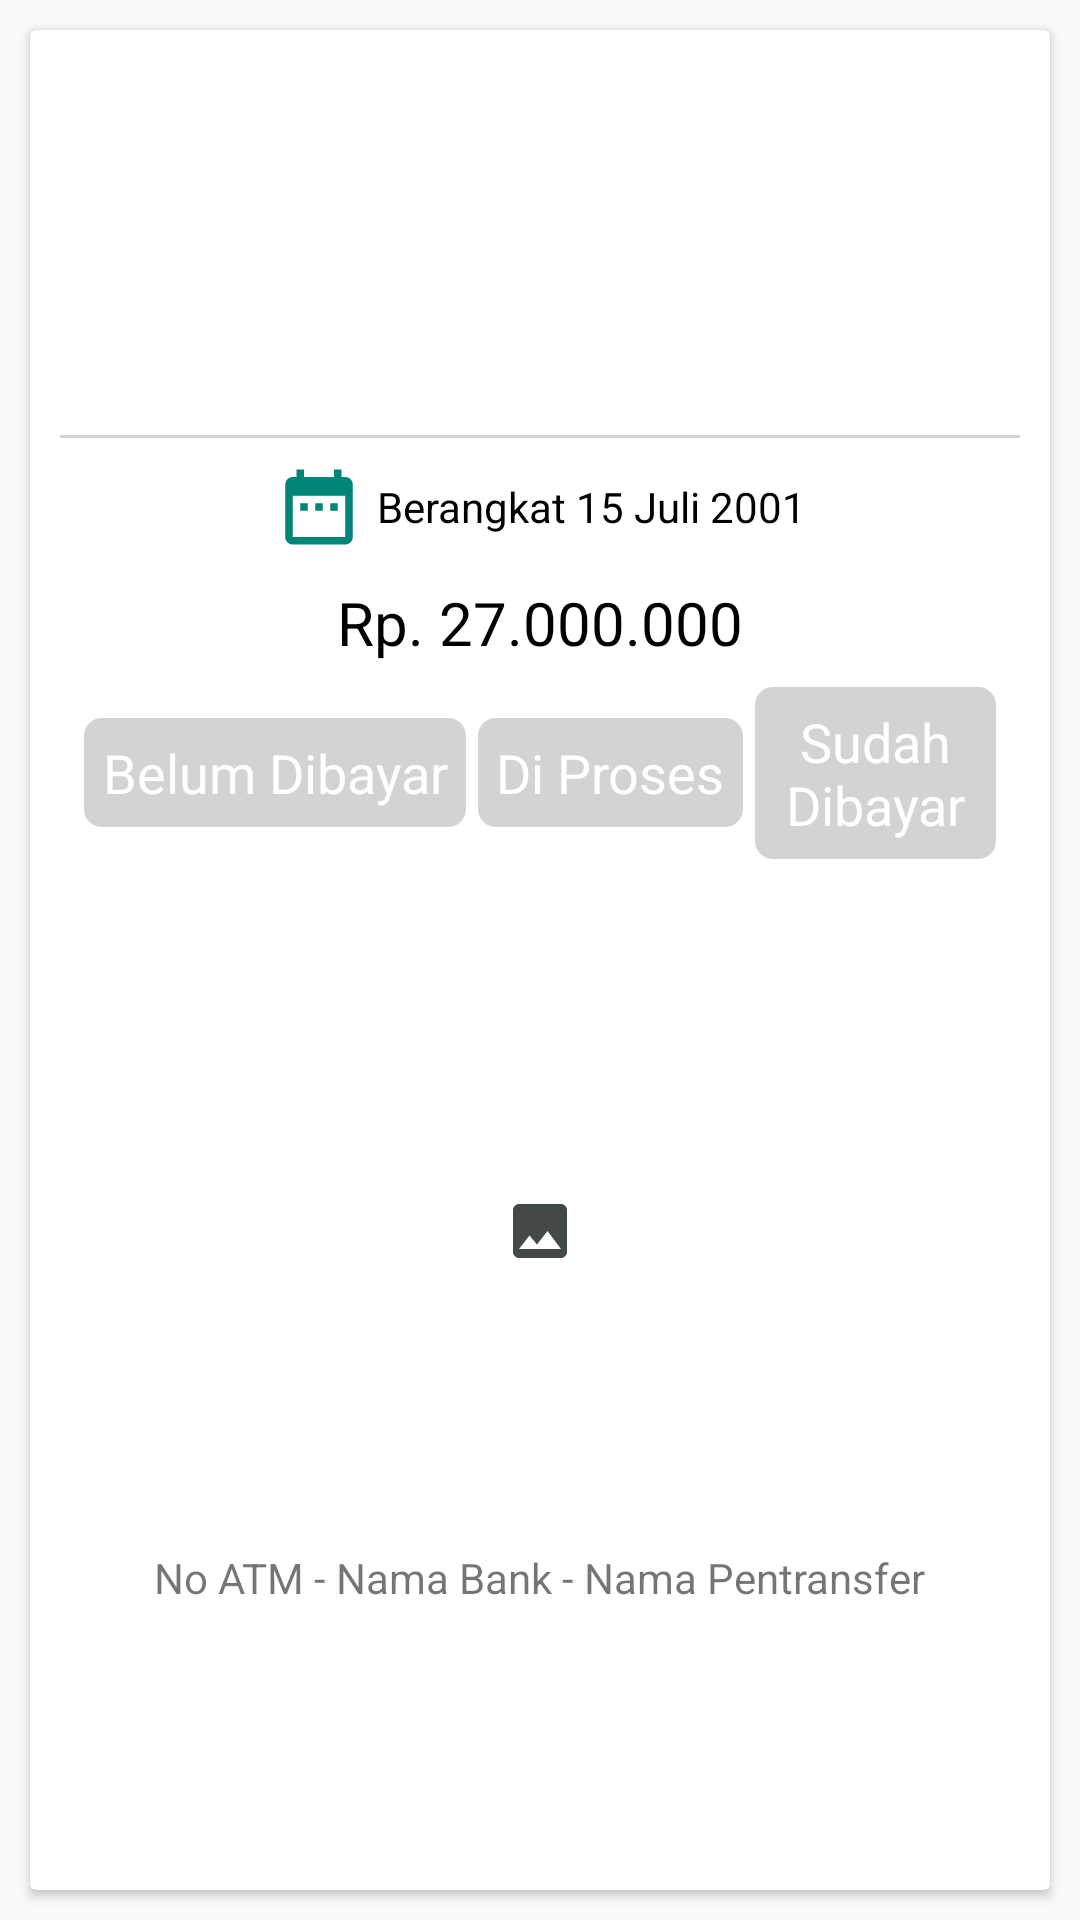

Named icons in this screenshot (1080w x 1920h) and their bounding boxes, (x1, y1, x2, y2):
date range: (285, 469, 353, 545)
